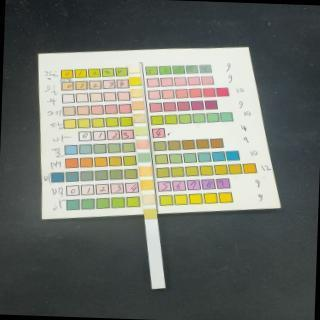mark: (141, 179, 154, 191), (144, 208, 156, 220), (137, 152, 151, 162), (136, 140, 150, 150), (143, 194, 155, 204), (140, 166, 152, 176), (136, 126, 148, 136), (134, 112, 146, 122), (132, 100, 144, 110), (130, 76, 142, 86), (128, 62, 140, 72), (132, 89, 144, 98)
